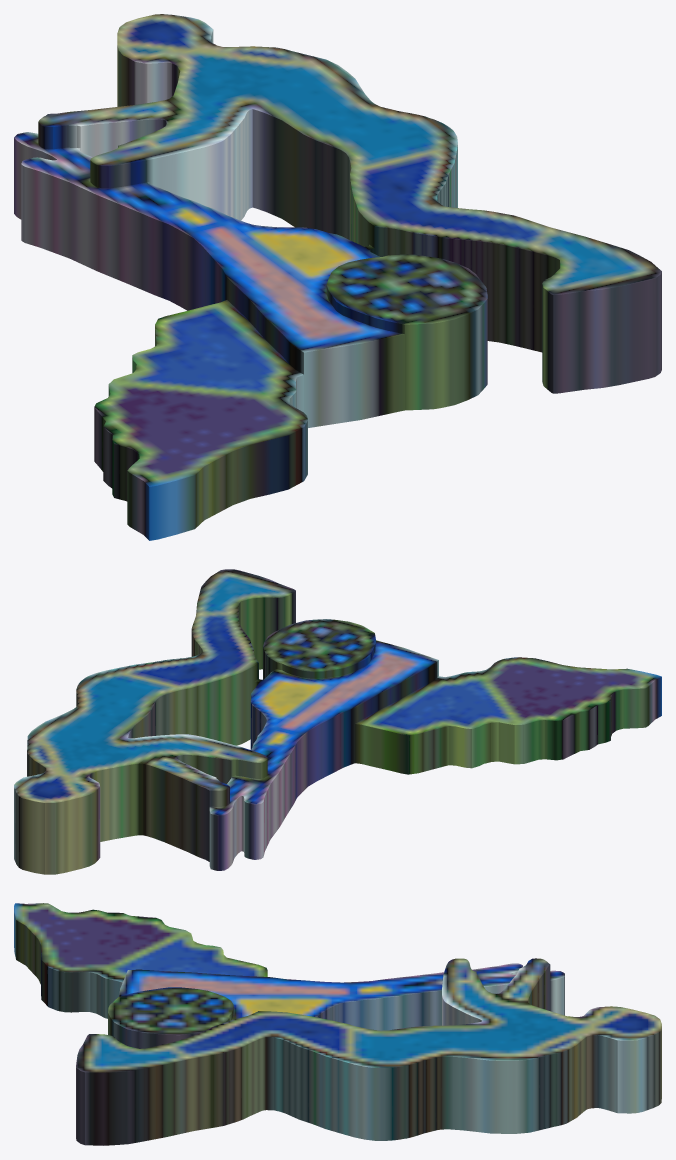
The model's file is muro del agua 7.dae.
The picture shows the model from 3 angles, top to bottom: view 1: azimuth 30°, elevation 25°; view 2: azimuth 150°, elevation 25°; view 3: azimuth 270°, elevation 25°; orthographic projection. The views are drawn at different scales.
Visible parts, largest first — view 1: SketchUp; view 2: SketchUp; view 3: SketchUp.
Part boxes in pixels (x1,y1,x2,y2): SketchUp: (14,14,661,540); SketchUp: (14,569,661,874); SketchUp: (14,903,661,1145).
Size of the model in its own units: 11.56 by 15.62 by 1.94.
